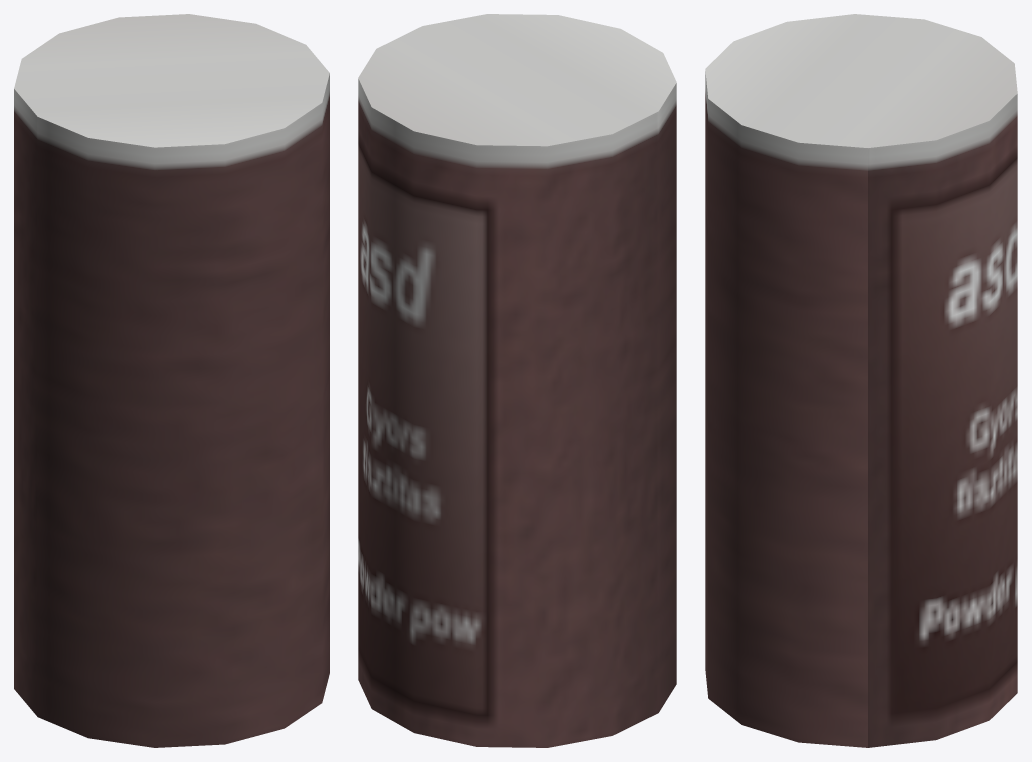
Rendered from Cleaning_powder.fbx.
3 views of the same model, side by side, from view 1: azimuth 30°, elevation 25°; view 2: azimuth 150°, elevation 25°; view 3: azimuth 270°, elevation 25° (orthographic).
Visible parts, largest first — view 1: Cleaning_powder; view 2: Cleaning_powder; view 3: Cleaning_powder.
Part boxes in pixels (bbox=[...]): Cleaning_powder: bbox=[14, 14, 329, 747]; Cleaning_powder: bbox=[358, 14, 676, 747]; Cleaning_powder: bbox=[705, 14, 1017, 747].
Size of the model in its own units: 0.0414 by 0.0863 by 0.0407.
